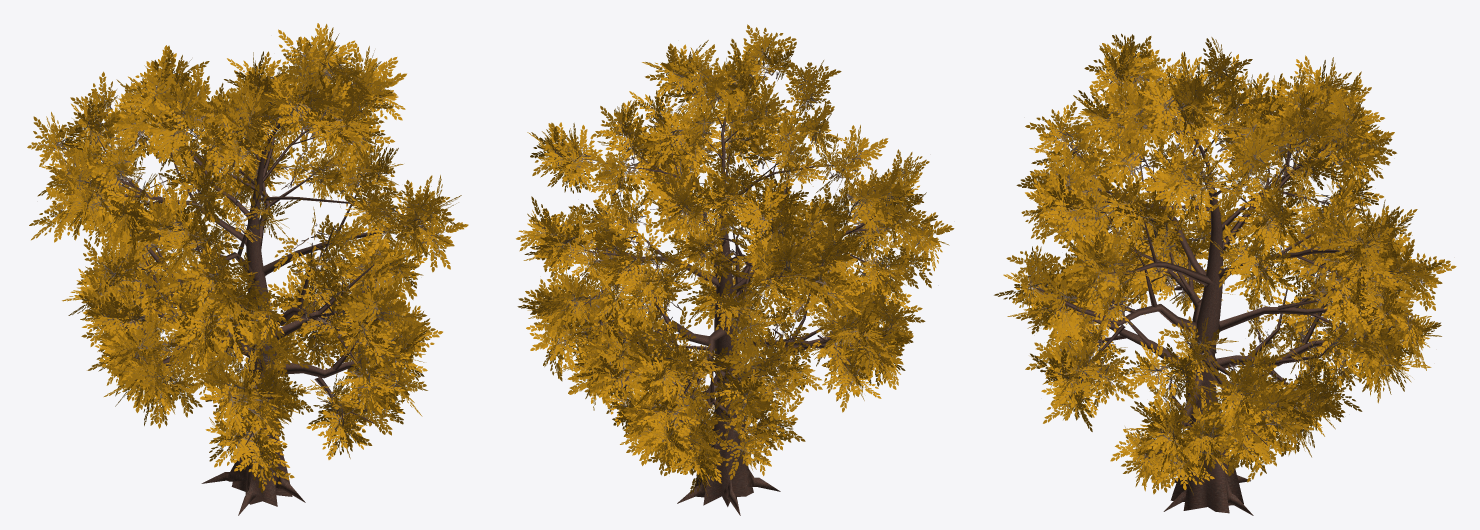
The model's file is birch-fall-balanced.gltf.
3 views of the same model, side by side, from view 1: azimuth 30°, elevation 25°; view 2: azimuth 150°, elevation 25°; view 3: azimuth 270°, elevation 25° (orthographic). The views are drawn at different scales.
Parts seen in each view (by area): view 1: Sweet Birch balanced Fall; view 2: Sweet Birch balanced Fall; view 3: Sweet Birch balanced Fall.
Boxes of the visible parts, left/top/right/bottom form: Sweet Birch balanced Fall: left=27, top=23, right=468, bottom=515; Sweet Birch balanced Fall: left=516, top=24, right=954, bottom=515; Sweet Birch balanced Fall: left=994, top=33, right=1456, bottom=515.
Bounding box in the file's own units: 479 × 560 × 514.
2 materials, 2 textured.
